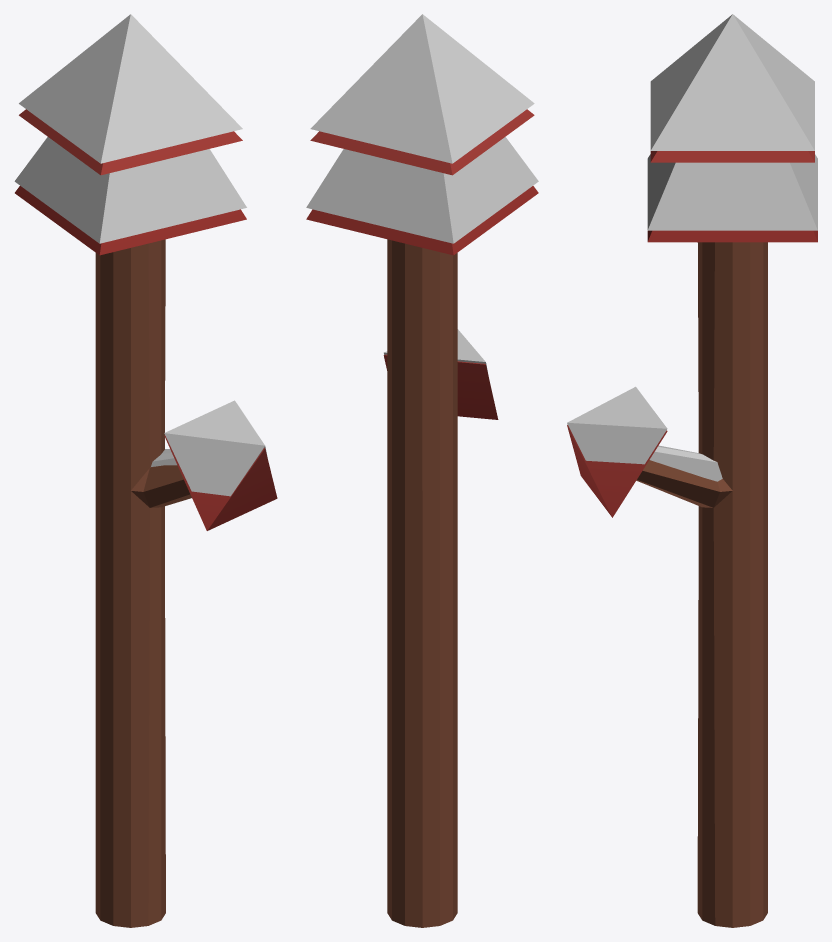
File: Tree_25_winter_gradient_red_vc.fbx
3 views of the same model, side by side, from view 1: azimuth 30°, elevation 25°; view 2: azimuth 150°, elevation 25°; view 3: azimuth 270°, elevation 25° (orthographic).
Visible parts, largest first — view 1: Tree_25_winter_gradient_red_vc; view 2: Tree_25_winter_gradient_red_vc; view 3: Tree_25_winter_gradient_red_vc.
Boxes of the visible parts, x1=… form: Tree_25_winter_gradient_red_vc: x1=14, y1=14, x2=277, y2=927; Tree_25_winter_gradient_red_vc: x1=306, y1=14, x2=538, y2=927; Tree_25_winter_gradient_red_vc: x1=567, y1=14, x2=817, y2=927.
Bounding box in the file's own units: 58.32 × 312 × 79.03.
